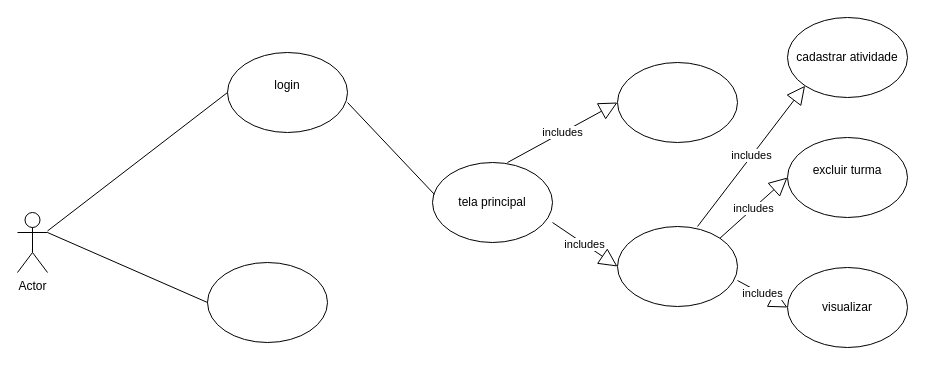
Some shapes in this 925 by 365 pixel diagram are drawn without their labels. Each missing label, with the centre of its shape:
"cadastrar turma" belongs at [677,102].
"cadastro" belongs at [267,302].
"listar turmas" belongs at [677,266].
